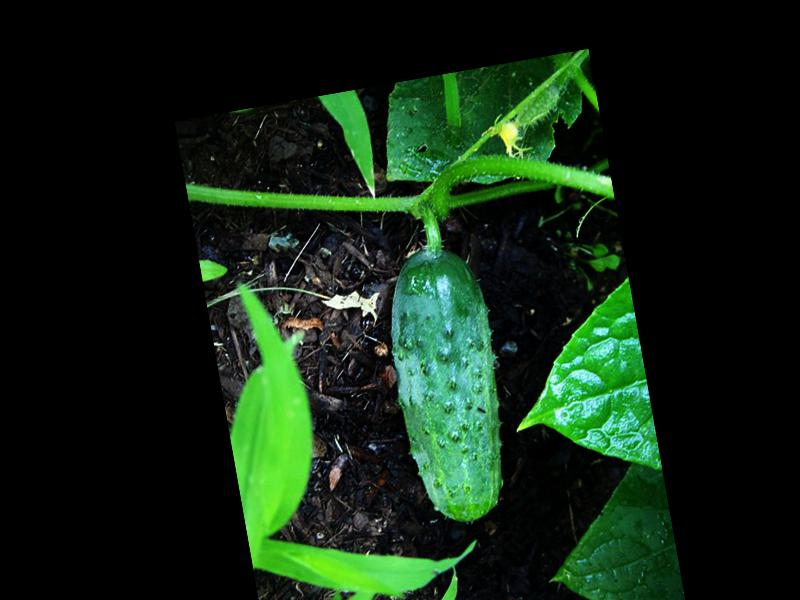Cucumber: (373, 240, 523, 533)
